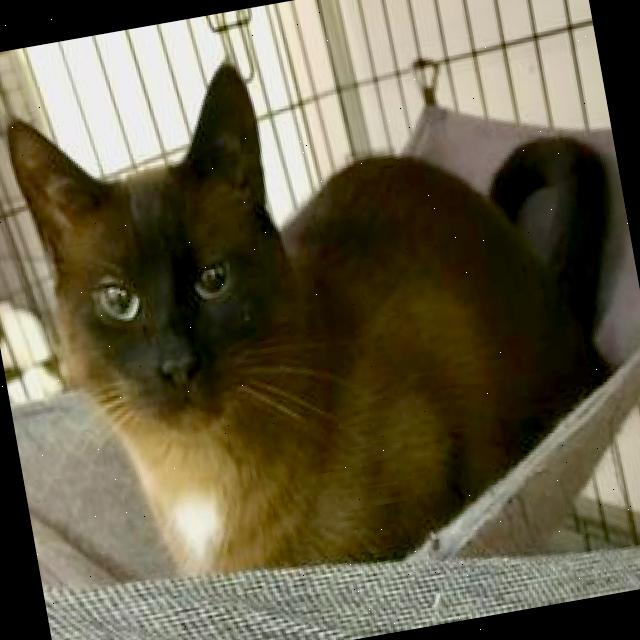siamese_cat: (0, 50, 331, 480)
